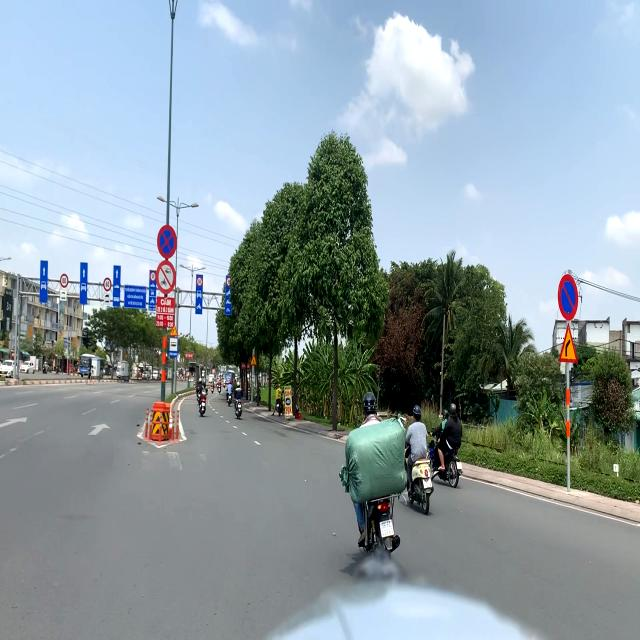P.127: (103, 277, 112, 292), (60, 274, 68, 288), (150, 272, 156, 282), (226, 277, 232, 287), (197, 277, 202, 286)
P.130: (156, 224, 178, 259)
P.131a: (558, 274, 578, 321)
R.434: (169, 337, 178, 357)
W.201b: (557, 322, 578, 363), (170, 324, 178, 336)
W.224: (250, 354, 258, 365)
